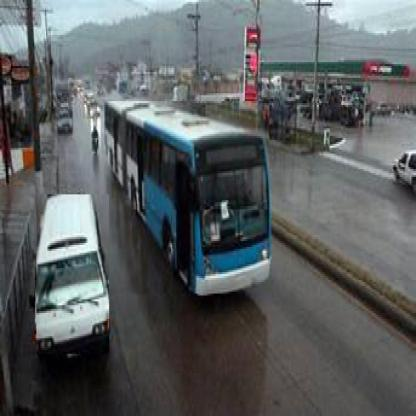bus: (106, 102, 272, 297)
car: (38, 195, 112, 357), (59, 120, 74, 135), (91, 131, 99, 157), (91, 104, 99, 120)
